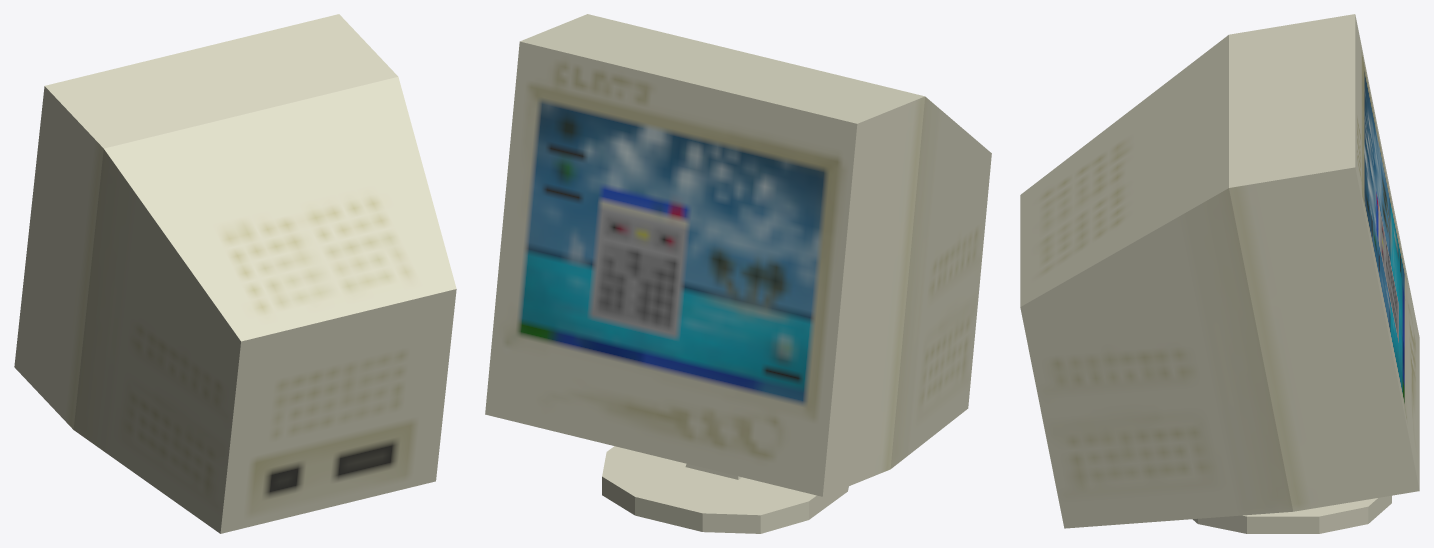
File: Monitor_ON.obj
The picture shows the model from 3 angles, left to right: view 1: azimuth 30°, elevation 25°; view 2: azimuth 150°, elevation 25°; view 3: azimuth 270°, elevation 25°; orthographic projection. The views are drawn at different scales.
Parts seen in each view (by area): view 1: MonitorOn_CRTMonitor; view 2: MonitorOn_CRTMonitor; view 3: MonitorOn_CRTMonitor.
Part boxes in pixels (x1=…): MonitorOn_CRTMonitor: x1=14, y1=14, x2=456, y2=533; MonitorOn_CRTMonitor: x1=485, y1=14, x2=991, y2=533; MonitorOn_CRTMonitor: x1=1020, y1=14, x2=1419, y2=533.
Bounding box in the file's own units: 4.26 × 5.14 × 4.68.
